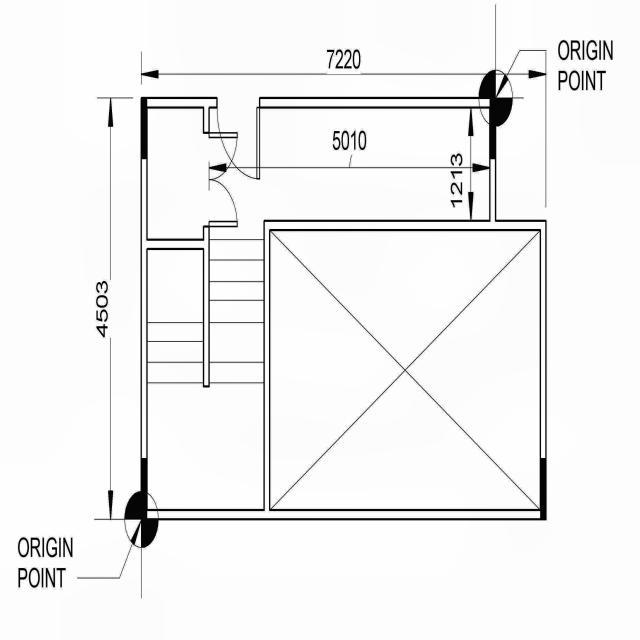Column: (488, 97, 497, 158), (140, 99, 148, 159), (541, 458, 546, 518), (142, 458, 146, 520)
Door: (215, 98, 263, 184)
Double-Door: (198, 125, 242, 232)
Staircase: (148, 219, 262, 392)
